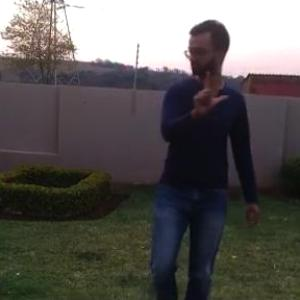land_hand: (190, 66, 228, 120)
